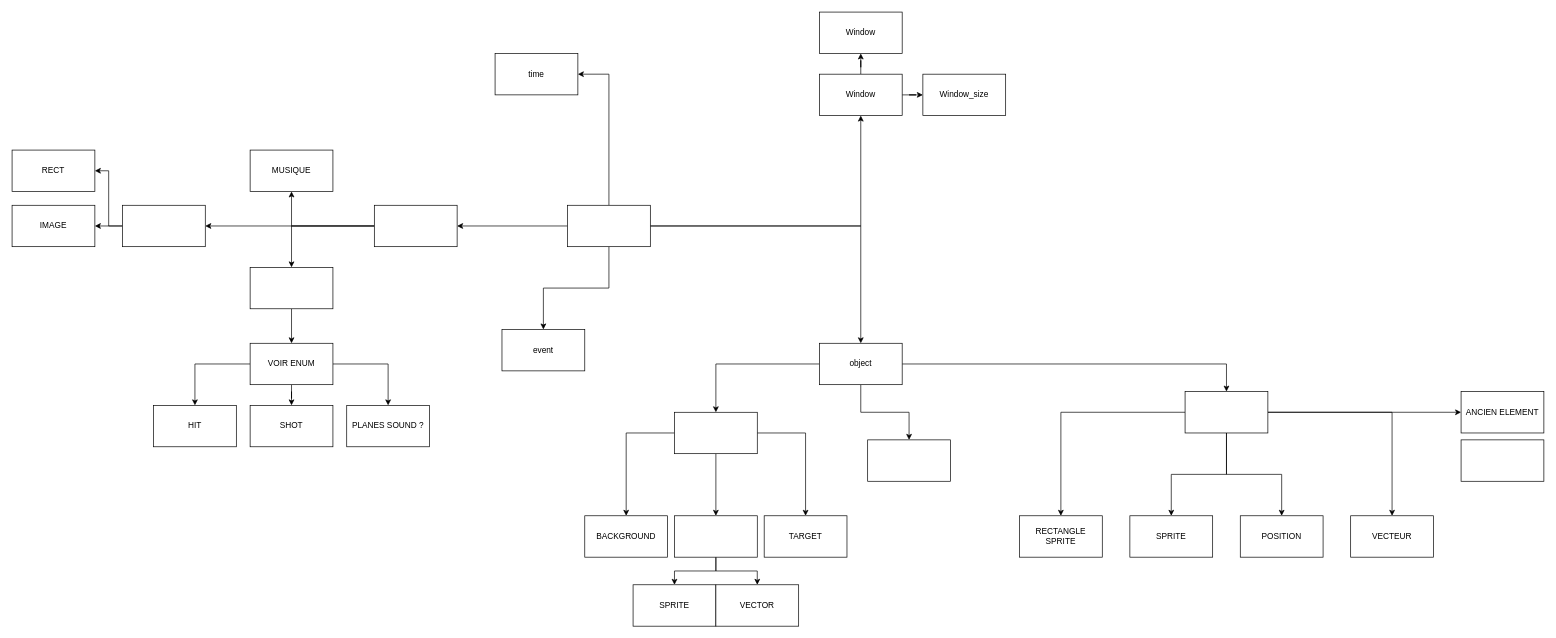
Some shapes in this 1556 by 638 pixel diagram are drawn without their labels. Here are the shapes that lost their labels. From the top down, the centre of each, then its label:
the point at 163,226: plane_set TABLEAU STRUCT
the point at 415,226: asset
the point at 608,226: engine
the point at 291,288: sounds
the point at 1226,412: plane
the point at 715,433: environement
the point at 908,460: Mouse position
the point at 1502,460: ELEMENT SUIVANT
the point at 715,536: CANON
